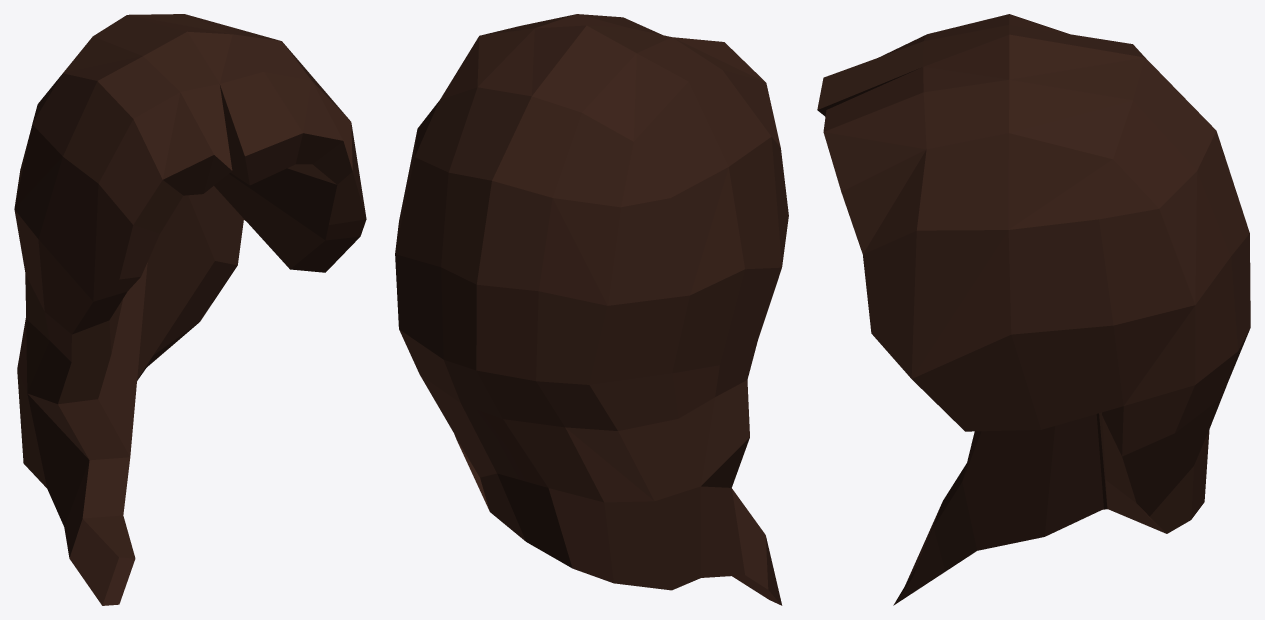
Rendered from Women Hairstyle A.fbx.
3 views of the same model, side by side, from view 1: azimuth 30°, elevation 25°; view 2: azimuth 150°, elevation 25°; view 3: azimuth 270°, elevation 25° (orthographic). The views are drawn at different scales.
Parts seen in each view (by area): view 1: Women Hairstyle A; view 2: Women Hairstyle A; view 3: Women Hairstyle A.
Part boxes in pixels (x1,y1,x2,y2): Women Hairstyle A: (14, 14, 366, 605); Women Hairstyle A: (395, 14, 788, 605); Women Hairstyle A: (817, 14, 1250, 605).
Bounding box in the file's own units: 23.12 × 40.15 × 24.59.
